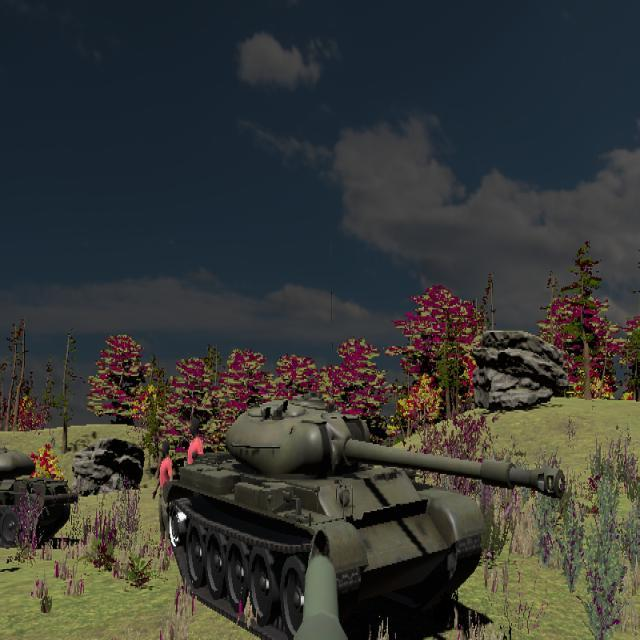Human: (152, 440, 173, 546)
Tank: (165, 396, 558, 639), (0, 445, 77, 548)
